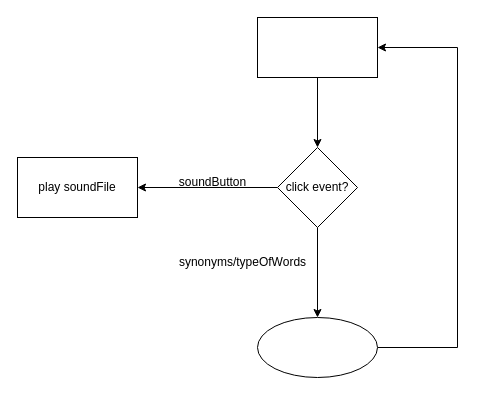
The diagram is 483 pixels wide and 395 high, and some of its shapes have lost their labels. Here are the shapes that lost their labels. From the top down, the centre of each, then its label:
pixel 317 47: The screen display UI_Word
pixel 317 347: search word from DB
